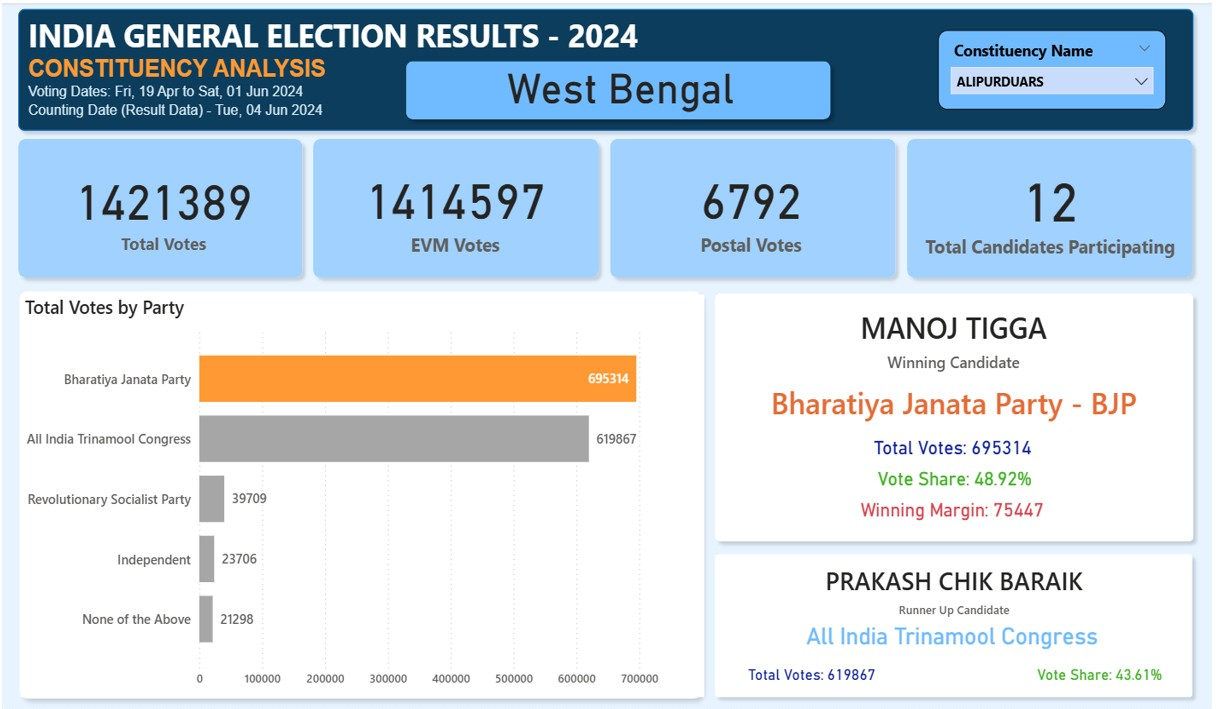

This screenshot's page, from the dashboard's own definition file:
{"tool":"powerbi","page":{"name":"Constituency Analysis","canvas":[1280,720],"ordinal":2},"visuals":[{"type":"shape","box":[9.8,0,1255.8,139.4],"z":0},{"type":"textbox","box":[23.8,8.3,672.9,120.1],"z":1000},{"type":"shape","box":[9.8,132,315.5,156.5],"z":2000},{"type":"slicer","fields":{"Values":["constituencywise_results.Constituency Name"]},"box":[988,29.3,240.9,80.7],"z":3000},{"type":"card","fields":{"Values":["Sum(constituencywise_details.Total Votes)"]},"box":[23.2,144.3,295.9,132.1],"z":4000},{"type":"shape","box":[321.6,132.1,317,156.5],"z":5000},{"type":"shape","box":[635,132.1,317,156.5],"z":6000},{"type":"shape","box":[948,132,317,156.5],"z":7000},{"type":"card","fields":{"Values":["Sum(constituencywise_details.EVM Votes)"]},"box":[332.6,144.3,293.5,132.1],"z":8000},{"type":"card","fields":{"Values":["Sum(constituencywise_details.Postal Votes)"]},"box":[639.5,144.3,304.5,132.1],"z":9000},{"type":"card","fields":{"Values":["CountNonNull(constituencywise_details.Constituency ID)"]},"box":[960,144.3,293.5,132.1],"z":10000},{"type":"shape","box":[9.8,284.9,738,431.7],"z":11000},{"type":"barChart","title":"Total Votes by Party","fields":{"Category":["constituencywise_details.Party"],"Y":["Sum(constituencywise_details.Total Votes)"]},"box":[20,297.1,721.5,408.4],"z":12000},{"type":"shape","box":[744.7,288.6,520.9,267.8],"z":13000},{"type":"card","fields":{"Values":["Min(constituencywise_results.Winning Candidate)"]},"box":[764.3,297.1,481.8,91.7],"z":14000},{"type":"card","fields":{"Values":["Min(constituencywise_results.Party Name (Results))"]},"box":[755.7,379.1,500.1,58.7],"z":16000},{"type":"card","title":"Total Votes:","fields":{"Values":["constituencywise_details.Total Votes KPI"]},"box":[891.4,437.8,225,31.8],"z":17000},{"type":"card","title":"Total Votes:","fields":{"Values":["constituencywise_details.Vote Share %"]},"box":[881.7,469.6,249.5,25.7],"z":18000},{"type":"card","title":"Total Votes:","fields":{"Values":["constituencywise_results.Winning Margin"]},"box":[879.2,501.4,248.2,30.6],"z":19000},{"type":"shape","box":[744.7,553,519.7,161],"z":20000},{"type":"card","fields":{"Values":["constituencywise_details.Runner Up Candidate"]},"box":[757,561.3,496.5,72.1],"z":21000},{"type":"shape","box":[418.2,51.4,465.9,77],"z":22000},{"type":"card","fields":{"Values":["constituencywise_details.State Secondary KPI"]},"box":[431.7,68.5,443.9,52.6],"z":23000},{"type":"card","fields":{"Values":["constituencywise_details.Runner Up party"]},"box":[755.7,626,496.5,36.7],"z":24000},{"type":"card","fields":{"Values":["constituencywise_details.Runner Up Votes"]},"box":[763,662.8,184.6,42.8],"z":25000},{"type":"card","fields":{"Values":["constituencywise_details.Runner Up % of Votes"]},"box":[1065.1,662.8,188.3,42.8],"z":26000}]}

Visuals, with their boxes on the page's 1280x720 design canvas (x1, y1, x2, y2). These are canvas units, not pixel positions in the 1216x709 screenshot, which may show the page scaled, cropped or inside an application window:
shape: 10,0,1266,139
textbox: 24,8,697,128
shape: 10,132,325,288
slicer - constituencywise_results.Constituency Name: 988,29,1229,110
card - Sum(constituencywise_details.Total Votes): 23,144,319,276
shape: 322,132,639,289
shape: 635,132,952,289
shape: 948,132,1265,288
card - Sum(constituencywise_details.EVM Votes): 333,144,626,276
card - Sum(constituencywise_details.Postal Votes): 640,144,944,276
card - CountNonNull(constituencywise_details.Constituency ID): 960,144,1254,276
shape: 10,285,748,717
"Total Votes by Party" barChart: 20,297,742,706
shape: 745,289,1266,556
card - Min(constituencywise_results.Winning Candidate): 764,297,1246,389
card - Min(constituencywise_results.Party Name (Results)): 756,379,1256,438
"Total Votes:" card: 891,438,1116,470
"Total Votes:" card: 882,470,1131,495
"Total Votes:" card: 879,501,1127,532
shape: 745,553,1264,714
card - constituencywise_details.Runner Up Candidate: 757,561,1254,633
shape: 418,51,884,128
card - constituencywise_details.State Secondary KPI: 432,68,876,121
card - constituencywise_details.Runner Up party: 756,626,1252,663
card - constituencywise_details.Runner Up Votes: 763,663,948,706
card - constituencywise_details.Runner Up % of Votes: 1065,663,1253,706
